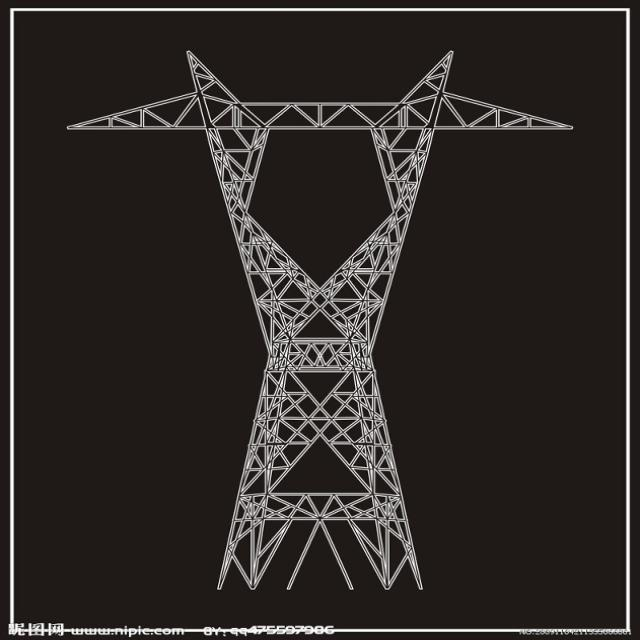non-critical vegetation: (58, 41, 582, 588)
